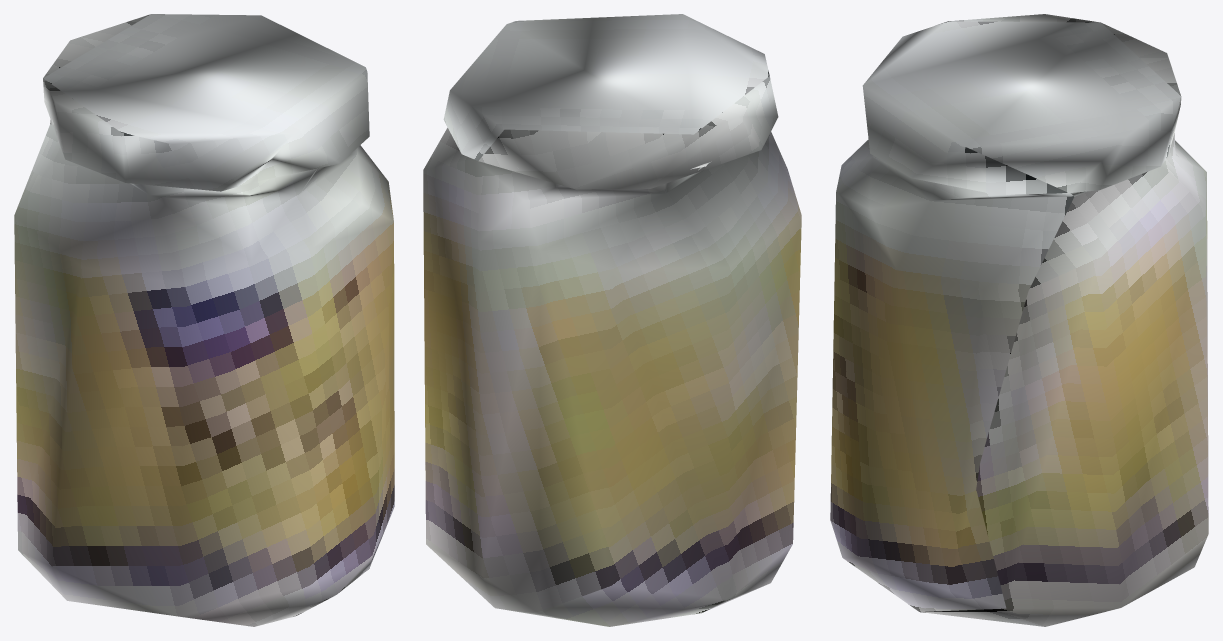
The model's file is IsoRich_Soy-low.glb.
3 renders of one model, left to right at view 1: azimuth 30°, elevation 25°; view 2: azimuth 150°, elevation 25°; view 3: azimuth 270°, elevation 25°, orthographic.
Parts seen in each view (by area): view 1: IsoRich_Soy; view 2: IsoRich_Soy; view 3: IsoRich_Soy.
Boxes of the visible parts, <box> form: IsoRich_Soy: <box>14,14,394,626</box>; IsoRich_Soy: <box>423,14,801,626</box>; IsoRich_Soy: <box>830,14,1208,626</box>.
Bounding box in the file's own units: 0.1219 × 0.1685 × 0.1201.
1 material, 1 textured.
